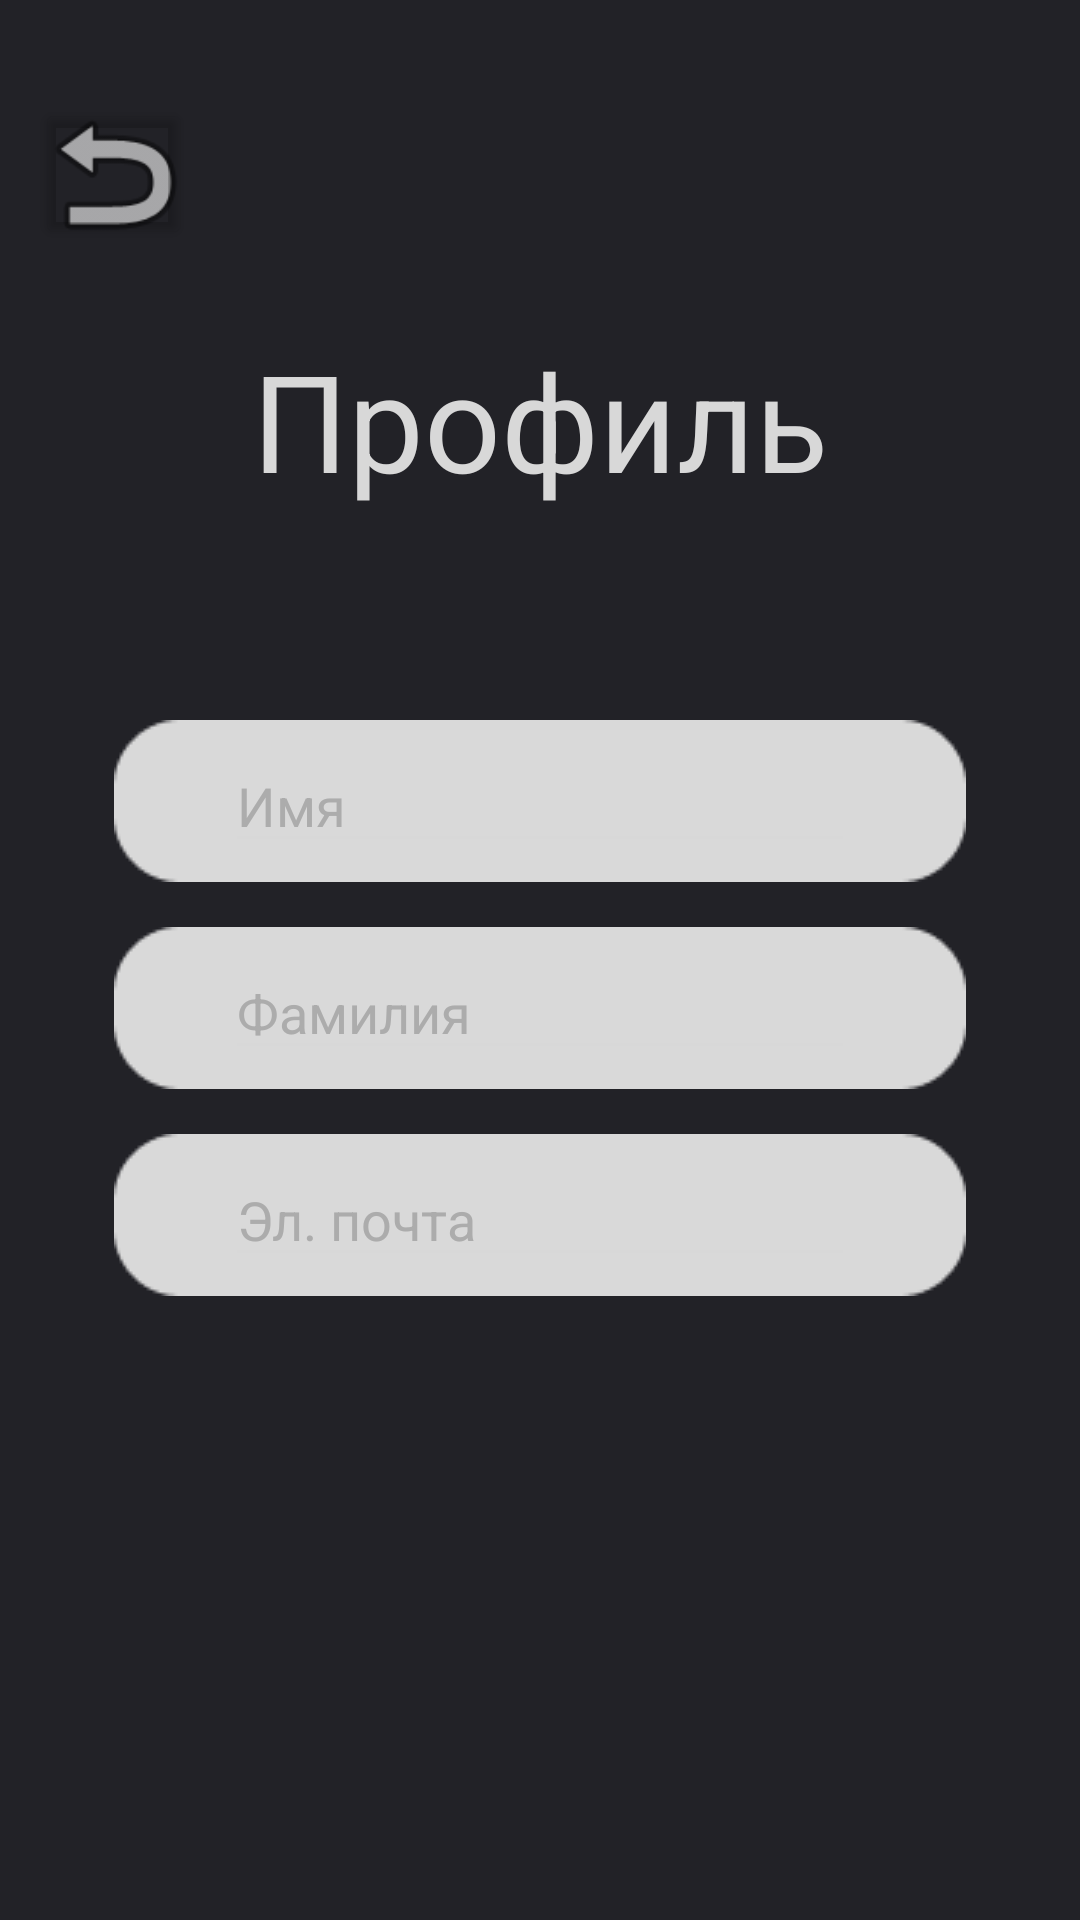

Icon click points for this 1080×1920 phone screenshot, format point (x, y):
revert: point (116, 175)
